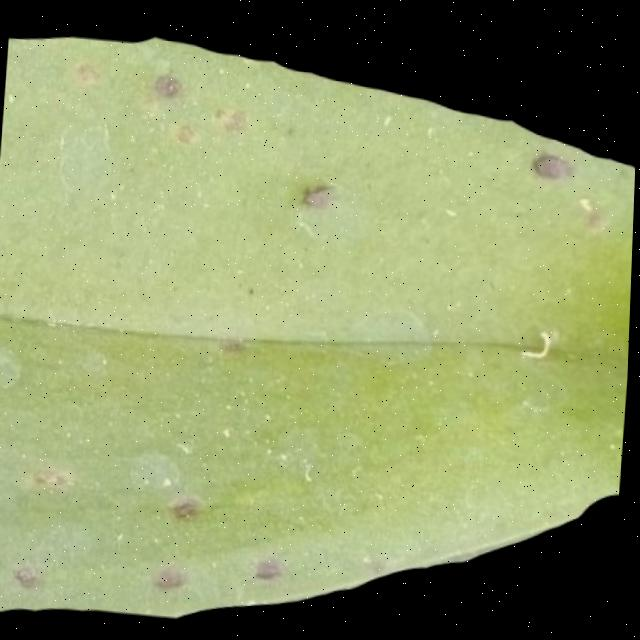mite: (112, 60, 349, 601), (138, 64, 345, 215), (143, 63, 191, 107), (0, 342, 27, 391), (151, 71, 183, 99)
spots: (0, 23, 639, 640)
sunburn: (294, 173, 341, 212)
